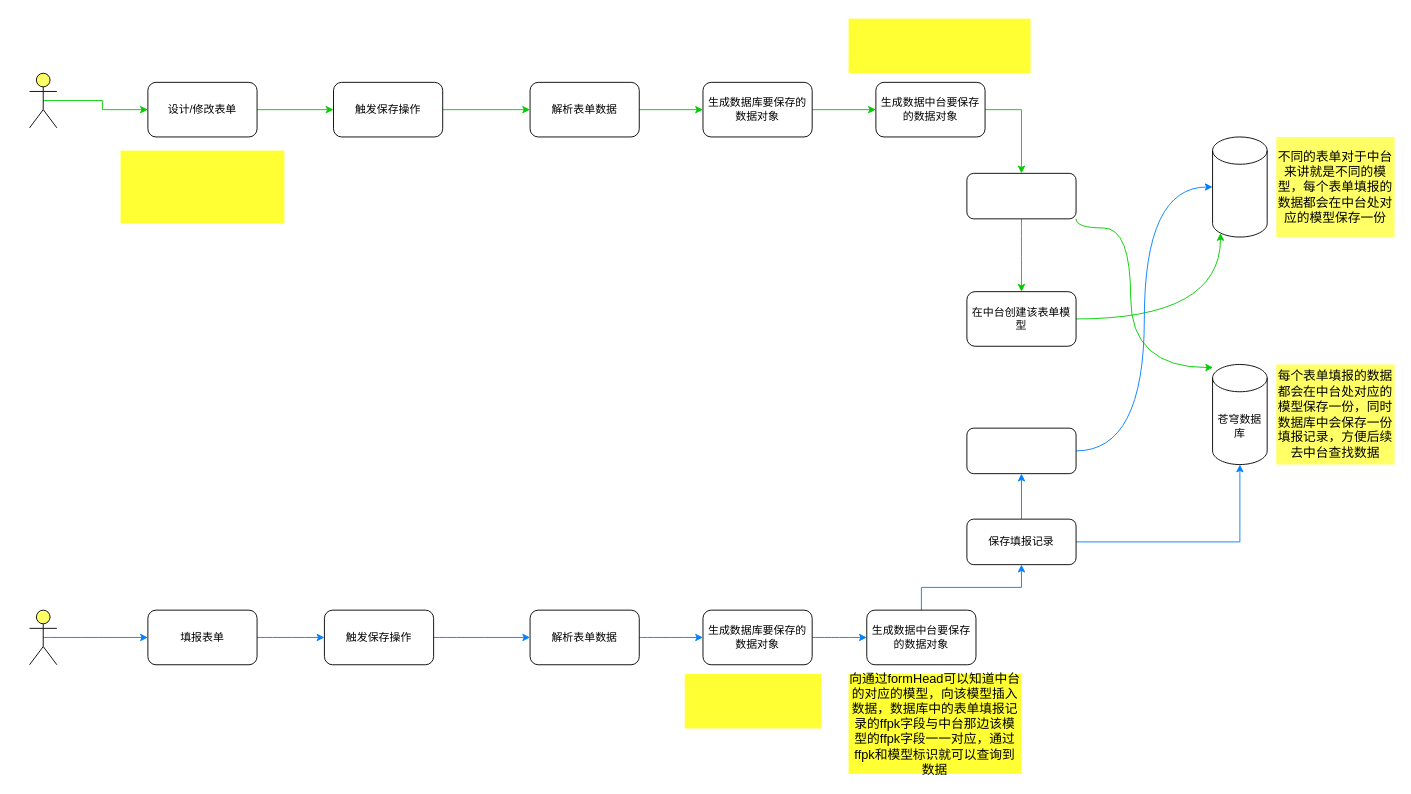
This 1411x794 diagram has some shape labels left out. The shapes that lost their labels are listed below. From the top down, each one's centre as x and y in pixels, then its label:
At [939,45]: "在生成数据库表单数据库数据对象时，会生成一个编码，这个编码便是中台模型的标识，名称一致。".
At [43,100]: "表单设计者".
At [202,186]: "修改表单时，如果该表单是未填报状态，那么表示可以修改字段，则系统会重新在中台生成新的模型。".
At [1021,195]: "保存表单/字段/分组信息至数据库".
At [1239,186]: "数据中台".
At [1021,450]: "保存模型数据".
At [43,637]: "表单填报者".
At [752,700]: "表单填报记录、历史指标值".
